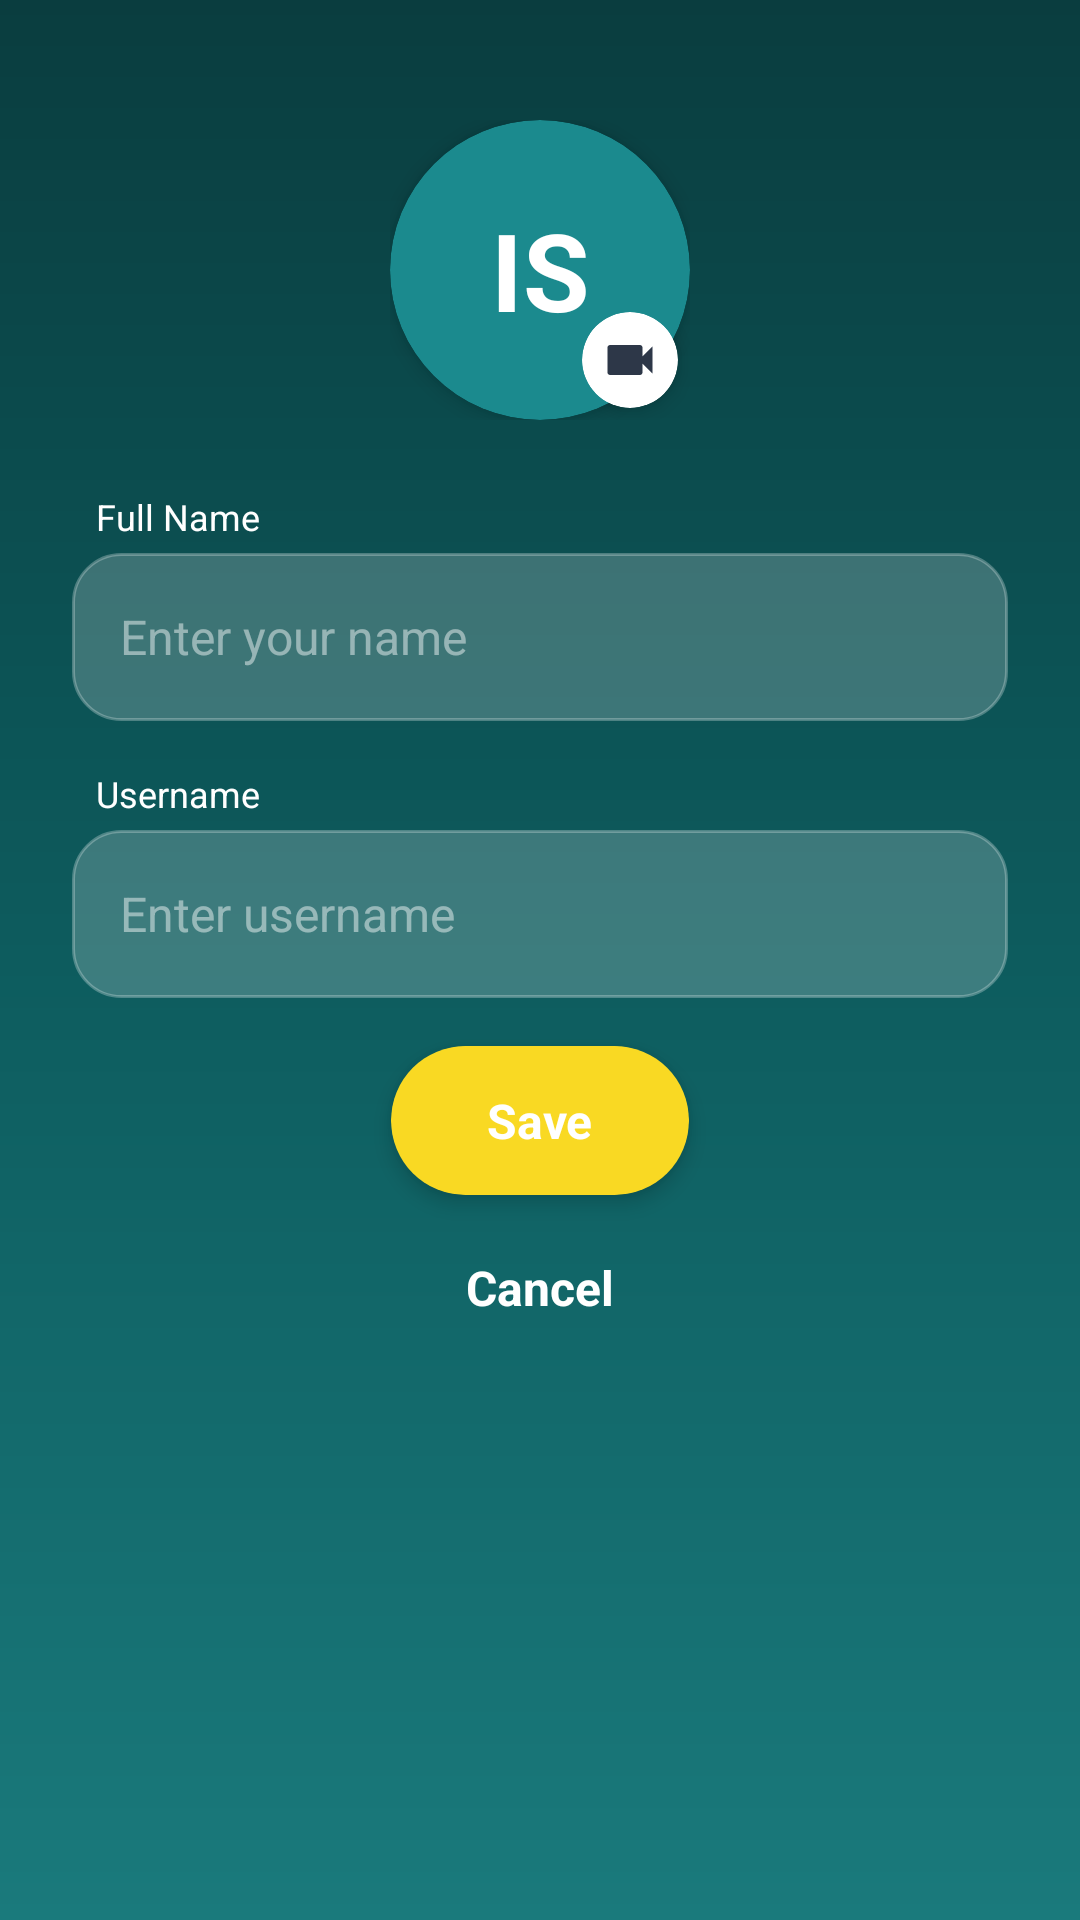

Icon click points for this 1080w x 1920h phone screenshot, format (x=x, y=y):
camera: (x=630, y=360)
